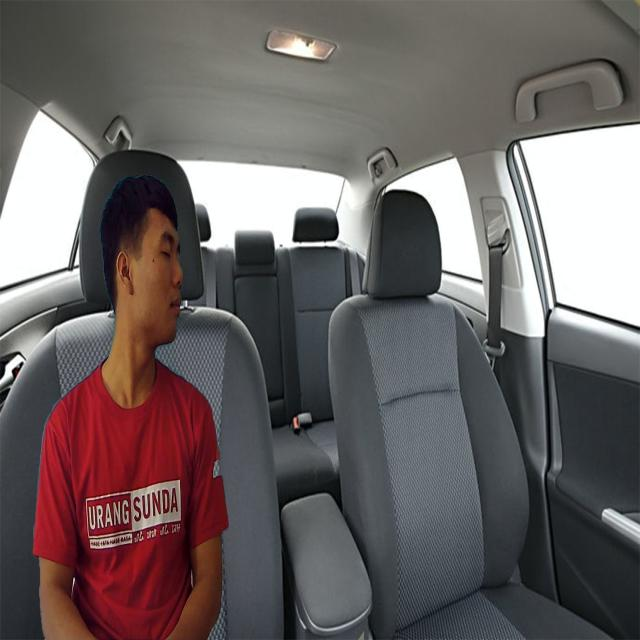no-seatbelt: (127, 191, 194, 357)
